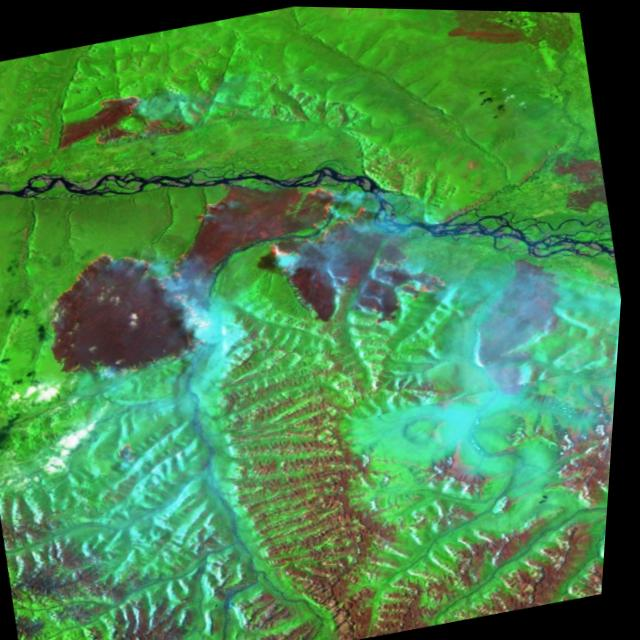fire: (23, 125, 476, 393), (78, 79, 181, 159), (107, 429, 160, 476)
